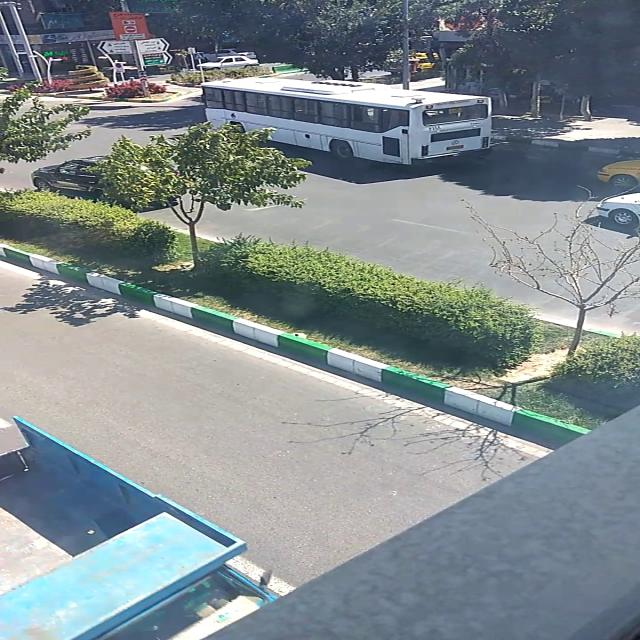bus: (200, 76, 492, 166)
car: (31, 155, 172, 207), (594, 158, 640, 189), (598, 192, 640, 224), (194, 56, 258, 74)
